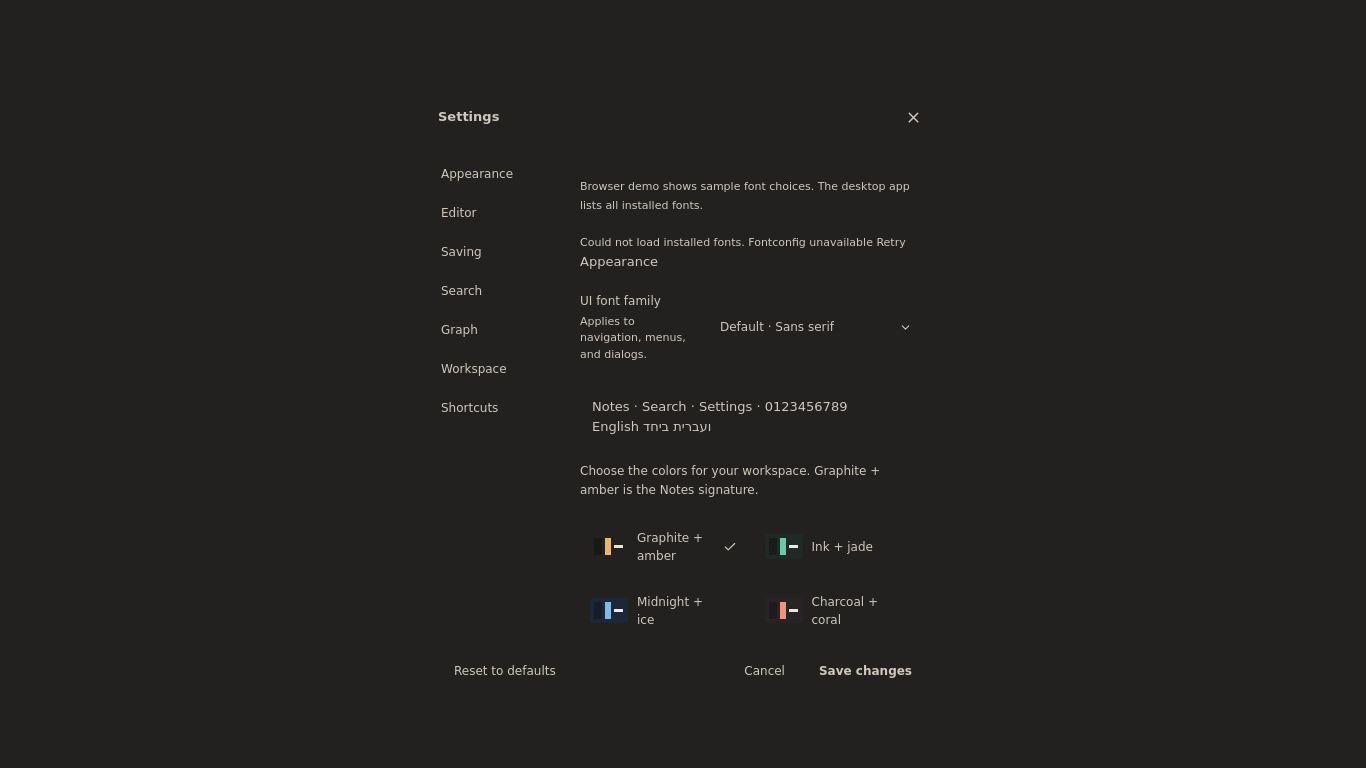
Scenario: allows retry after failed font discovery and populates the actual font picker
Expected: the message shows "Fontconfig unavailable", [748,236,873,248]
Click the button "Retry".
click(891, 243)  # box [876,234,906,252]
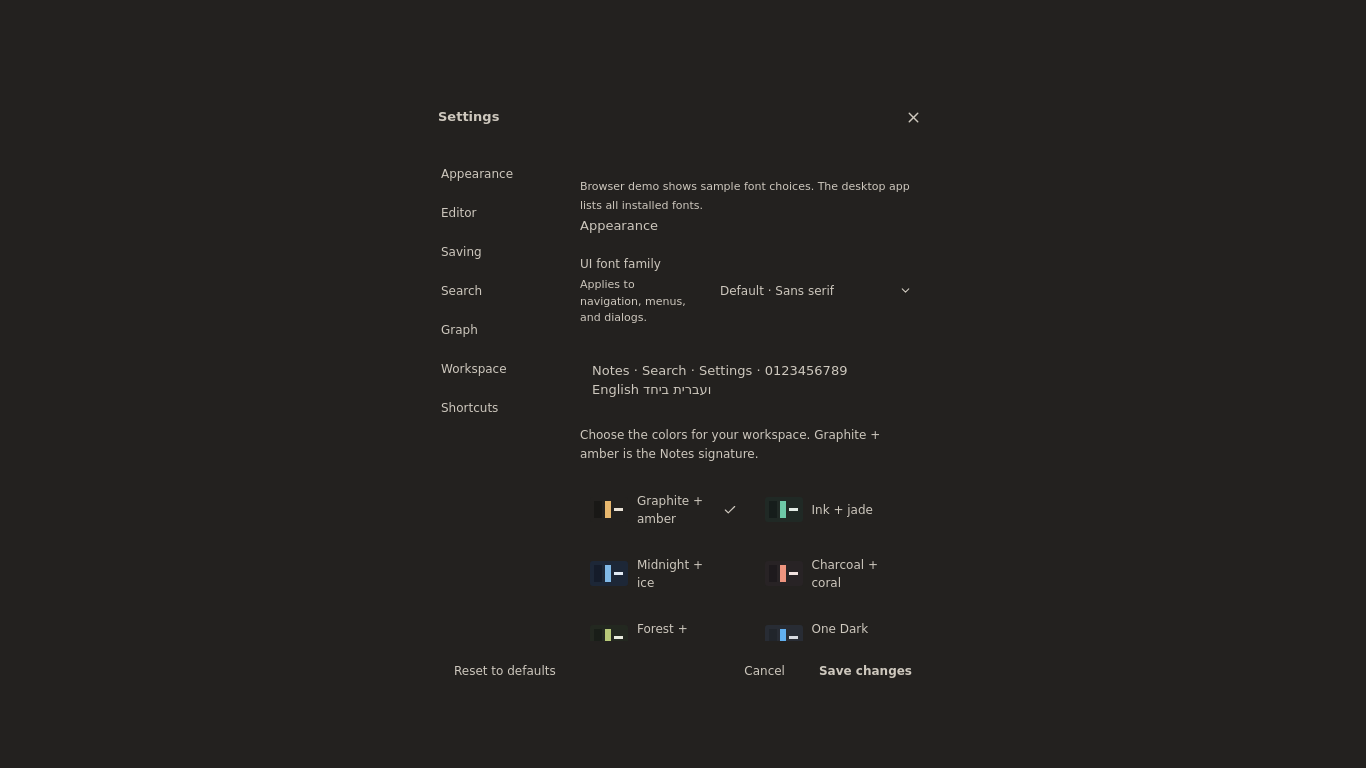
Expected: the message "Could not load installed fonts. Fontconfig unavailable Retry" is gone
Click the button with aria-label "UI font family".
click(816, 291)  # box [711,275,921,307]
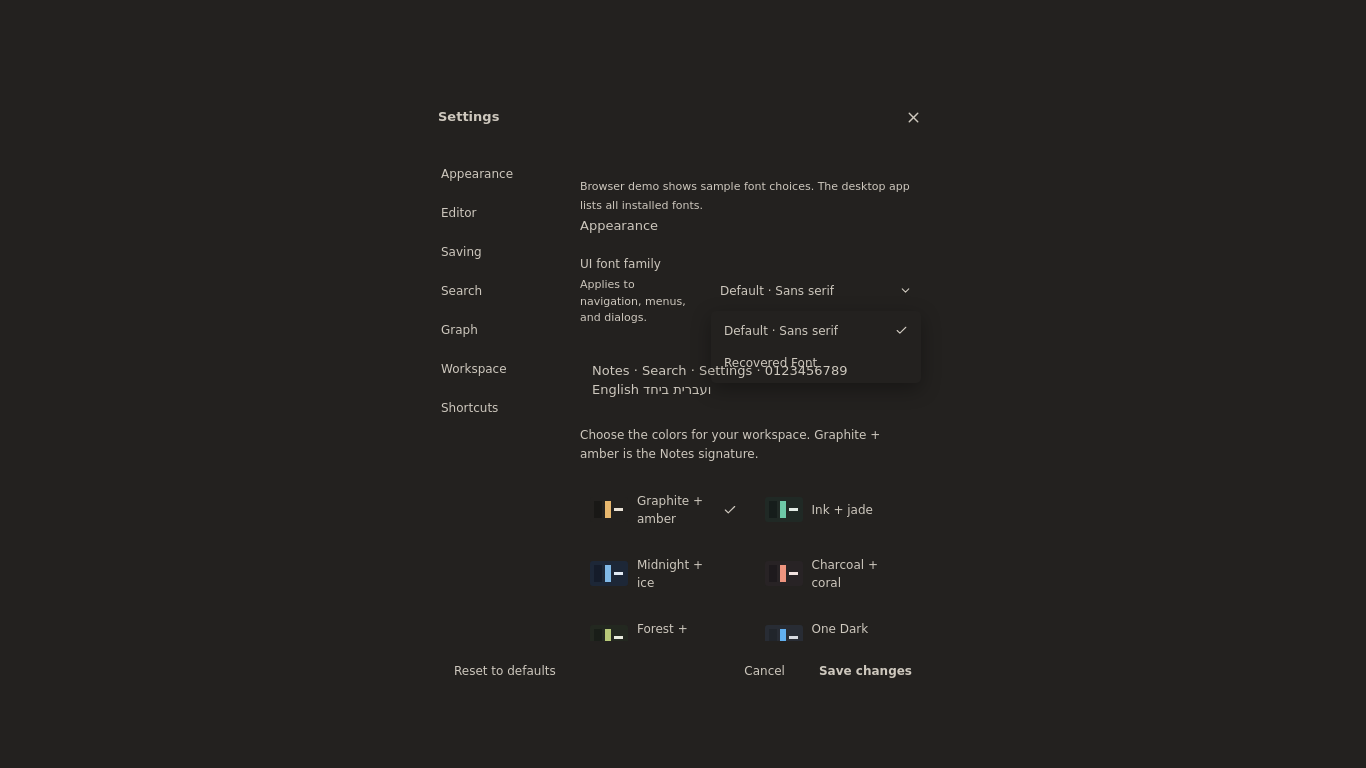
Expected: the menu item "Recovered Font" is shown, [715,347,917,379]
